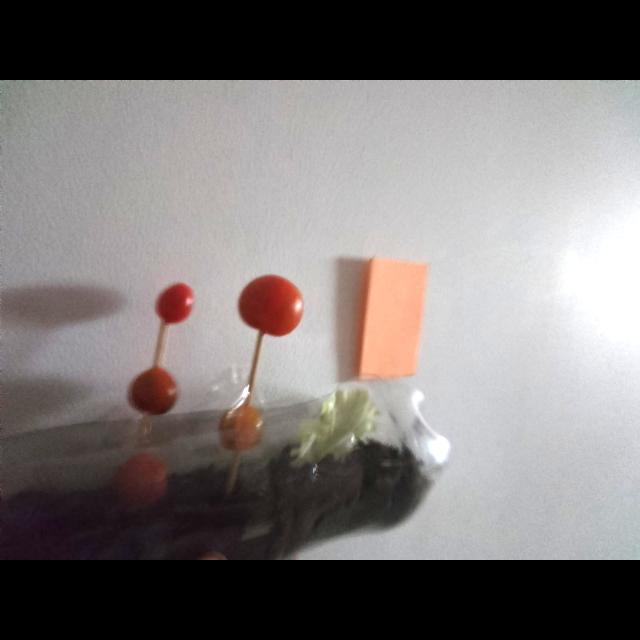card: (356, 258, 429, 378)
fruit_maturation: (219, 402, 263, 452)
fully_grown: (238, 275, 303, 337), (113, 453, 167, 509), (129, 367, 177, 415), (156, 283, 195, 325)
